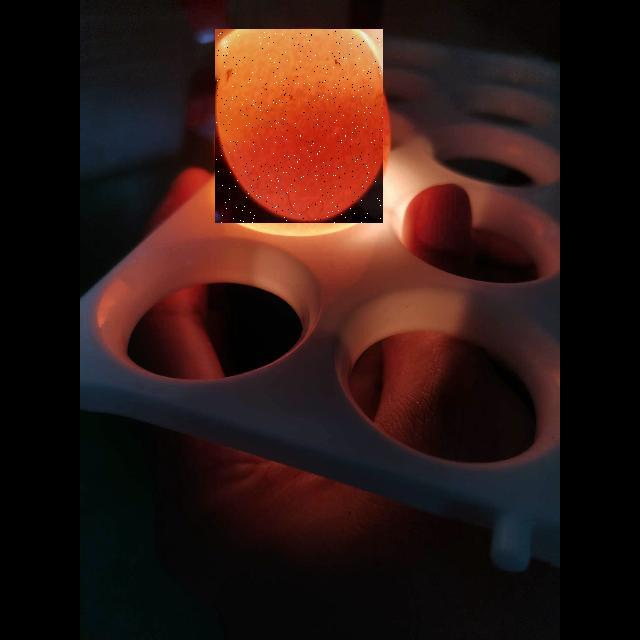Infertile: (215, 29, 383, 223)
